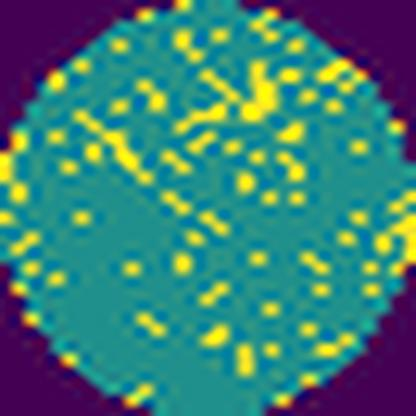Loc: (169, 56, 284, 137)
